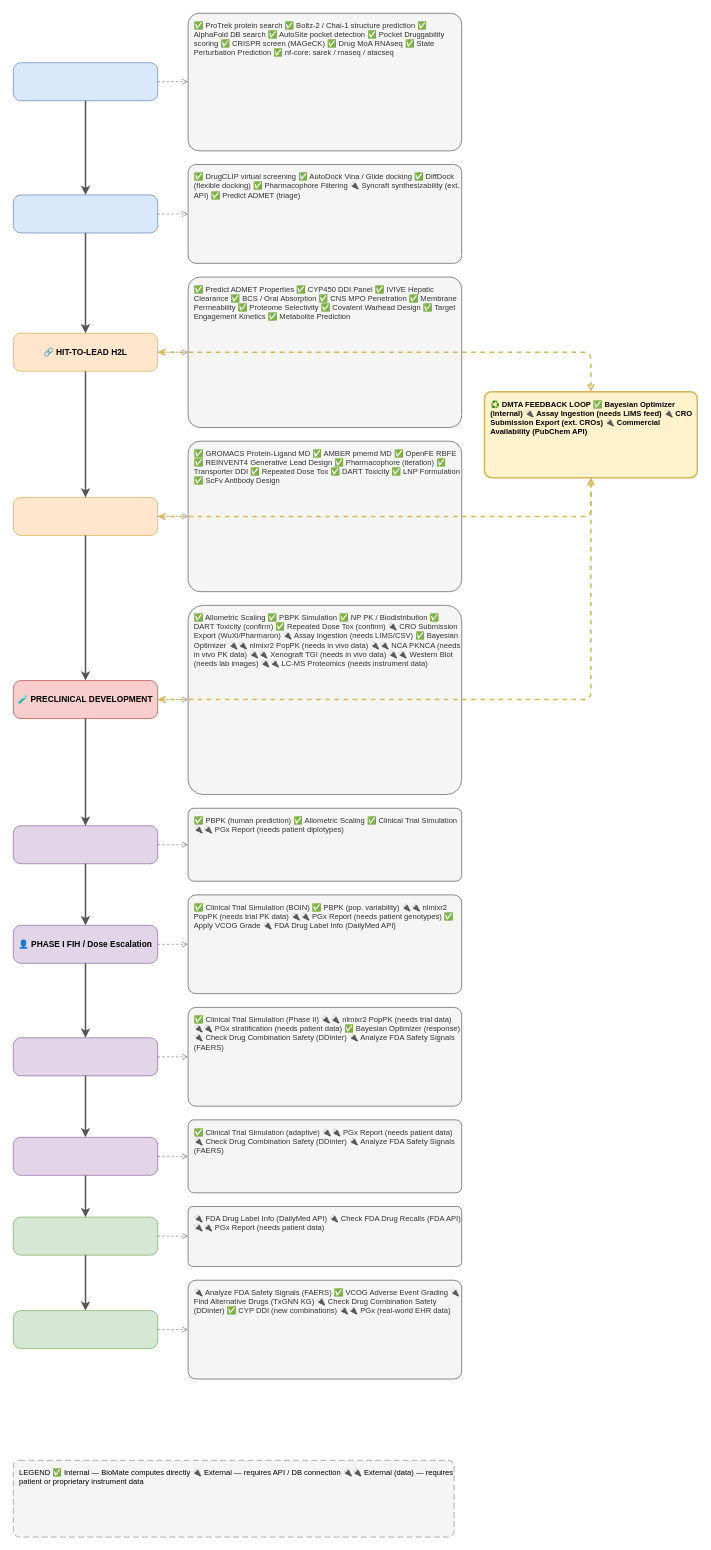
Some shapes in this 711 by 1550 pixel diagram are drawn without their labels. The centre of each missing label's shape, as x and y in pixels:
"⚗️ LEAD OPTIMIZATION LO" goes at (x=85, y=516).
"✅ APPROVAL NDA / BLA" goes at (x=85, y=1235).
"🏥 PHASE III Pivotal Trials" goes at (x=85, y=1156).
"💊 HIT DISCOVERY" goes at (x=85, y=213).
"📈 POST-MARKET Pharmacovigilance" goes at (x=85, y=1329).
"📊 PHASE II PoC / Dose Finding" goes at (x=85, y=1056).
"📋 IND FILING" goes at (x=85, y=844).
"🔬 TARGET DISCOVERY & VALIDATION" goes at (x=85, y=81).
